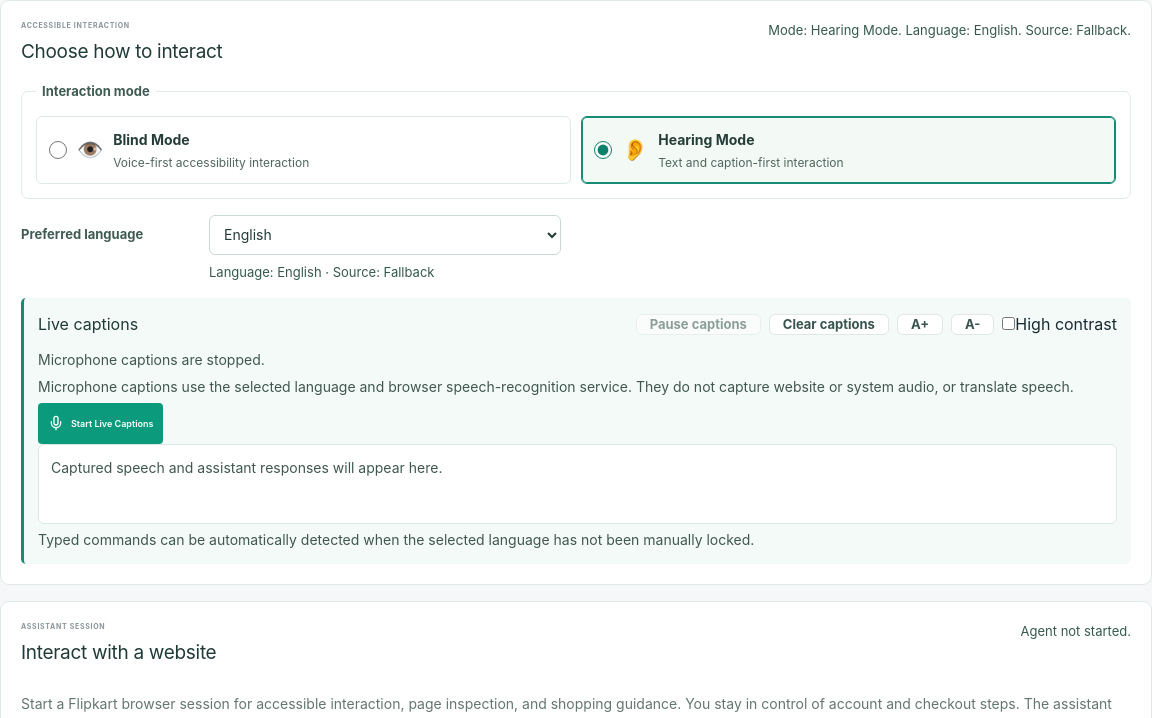
Test: AccessibilityAssistant › selects Tamil and reports the manual language preference
Select "Tamil" in the dropdown labelled "Preferred language": [385, 235] box [209,215,561,255]
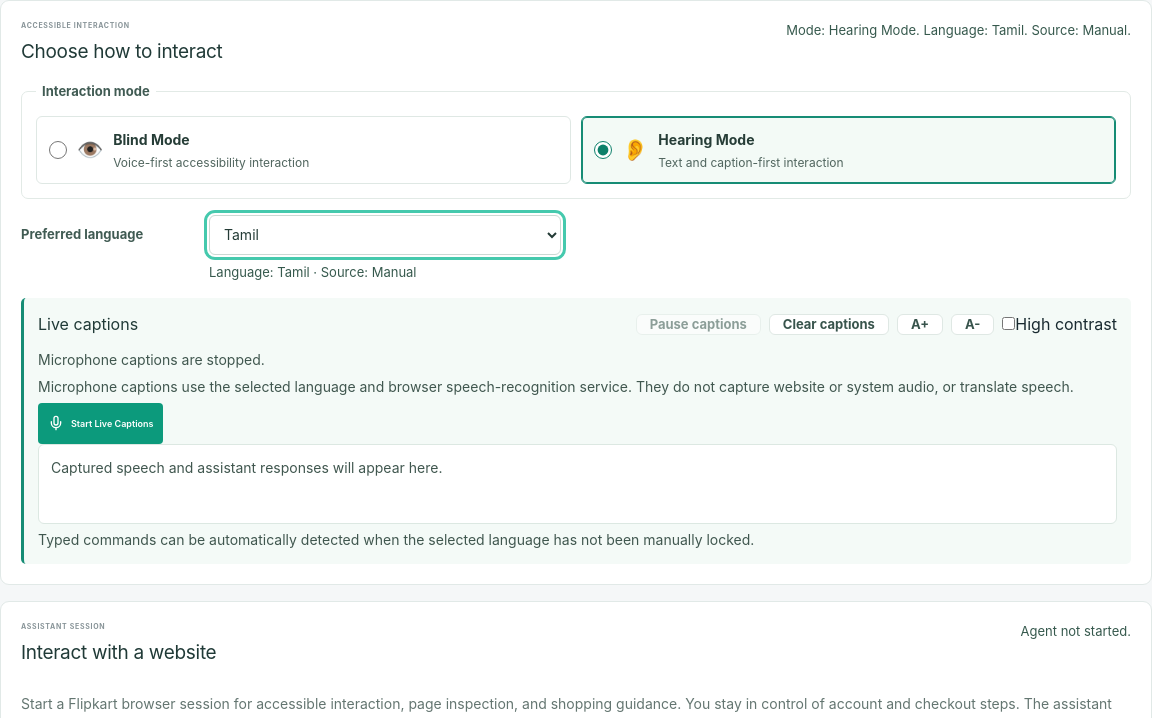
Expected: the message named "Preferred language status" reads "Language: Tamil · Source: Manual", [209,264,416,280]
